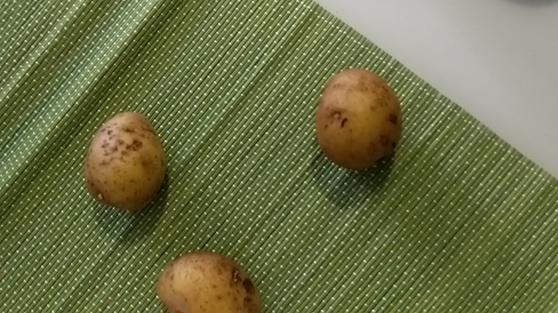potato: (314, 67, 402, 166), (85, 112, 172, 209), (157, 252, 258, 313)
